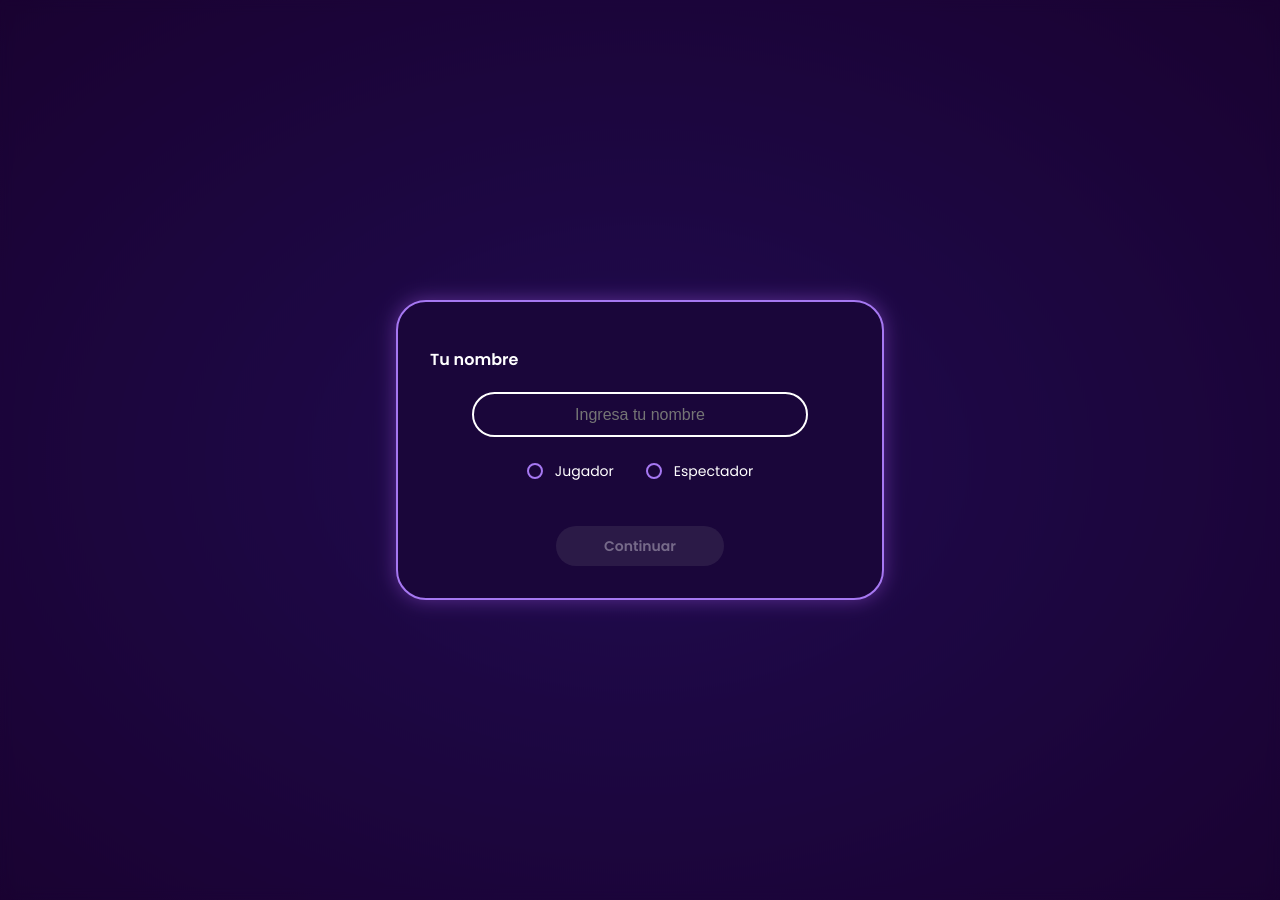
Scenario: ModalPlayer › muestra errores cuando el nombre es inválido
Type "123" into the field with placeholder "Ingresa tu nombre" at {"x": 640, "y": 415}, box [472, 392, 808, 437]
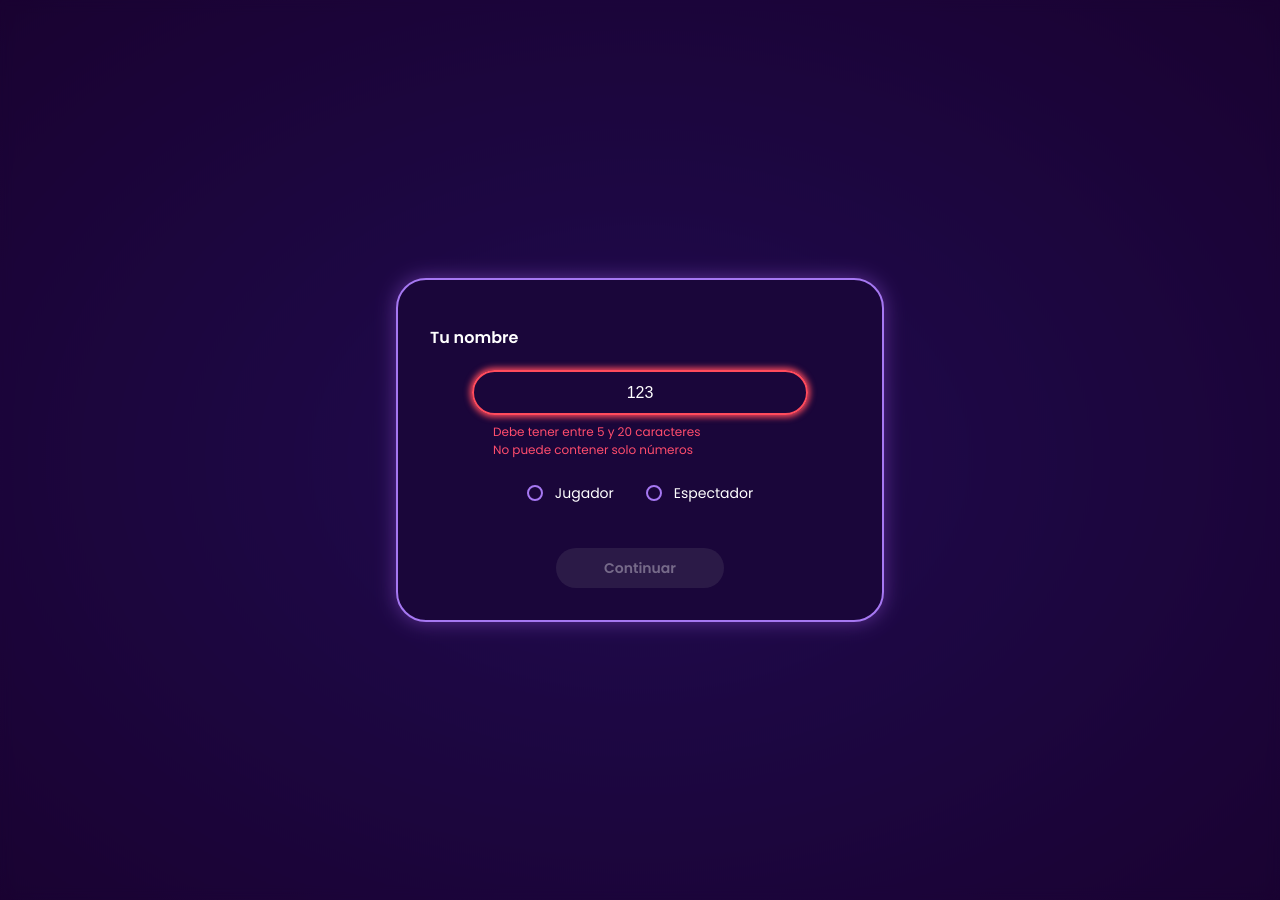
Now the list item "Debe tener entre 5 y 20 caracteres" is shown, box [493, 423, 700, 440]
Now the list item "No puede contener solo números" is shown, box [493, 441, 693, 458]
